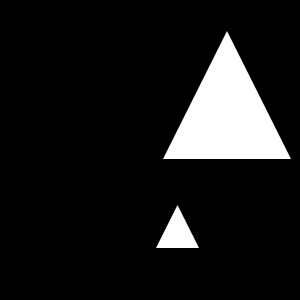triangle: (163, 31, 291, 159), (156, 205, 199, 248)
